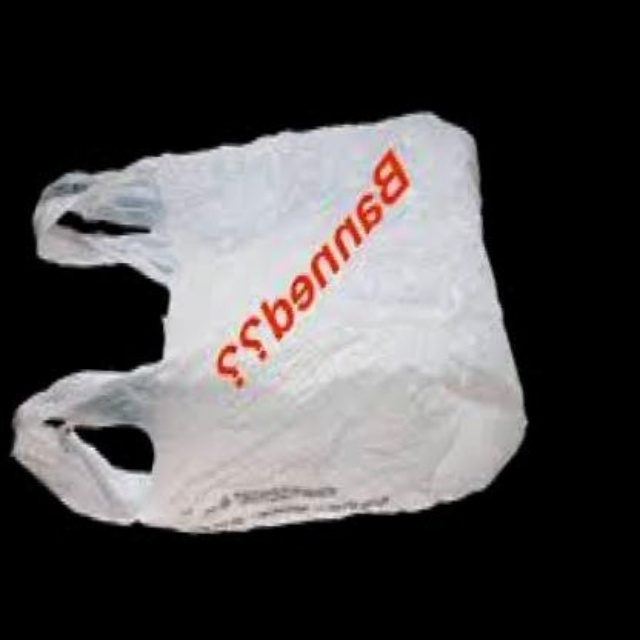trash: (14, 114, 525, 531)
